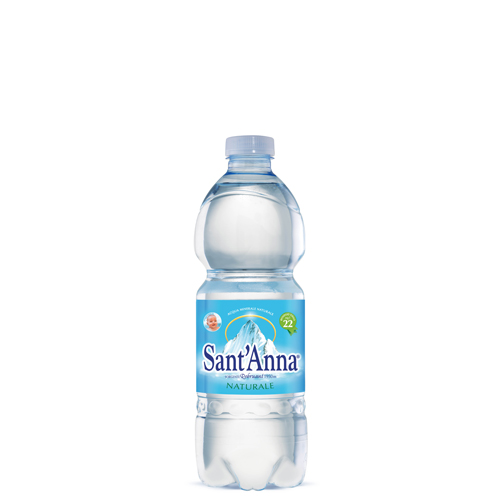PlasticBottle: (179, 130, 312, 491)
